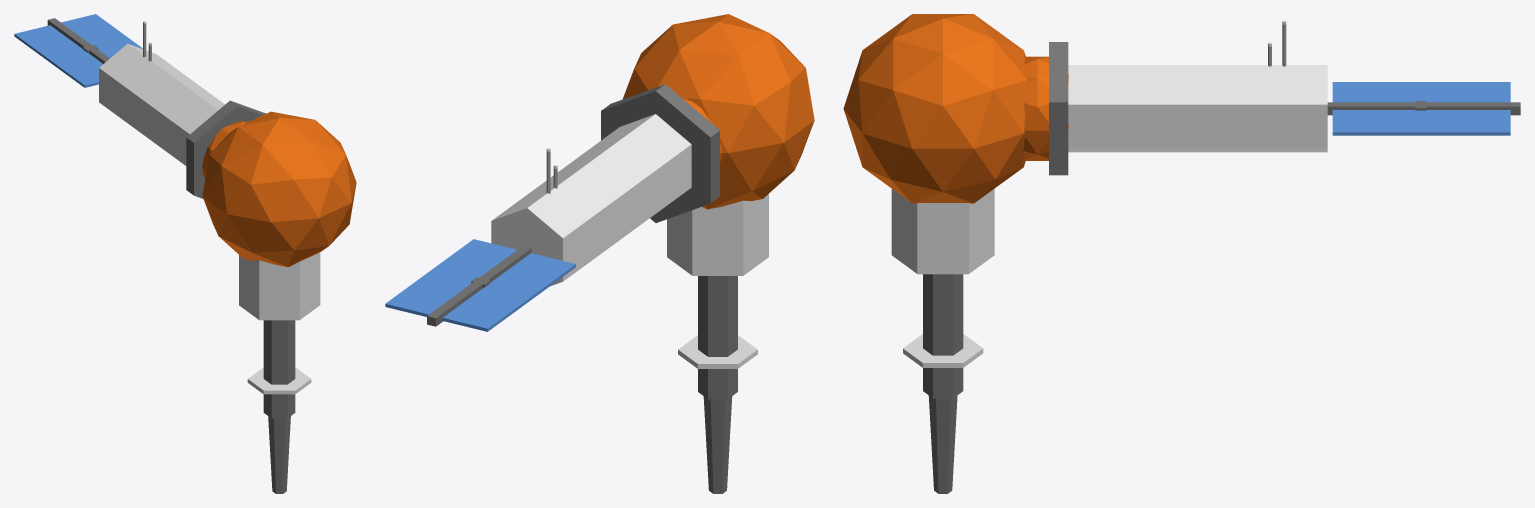
The model's file is builder.fbx.
3 views of the same model, side by side, from view 1: azimuth 30°, elevation 25°; view 2: azimuth 150°, elevation 25°; view 3: azimuth 270°, elevation 25° (orthographic). The views are drawn at different scales.
Visible parts, largest first — view 1: Icosphere.001; view 2: Icosphere.001; view 3: Icosphere.001.
Part boxes in pixels (bbox=[...]): Icosphere.001: bbox=[14, 14, 356, 493]; Icosphere.001: bbox=[385, 14, 814, 493]; Icosphere.001: bbox=[843, 14, 1520, 493].
Size of the model in its own units: 190 by 523 by 679.
